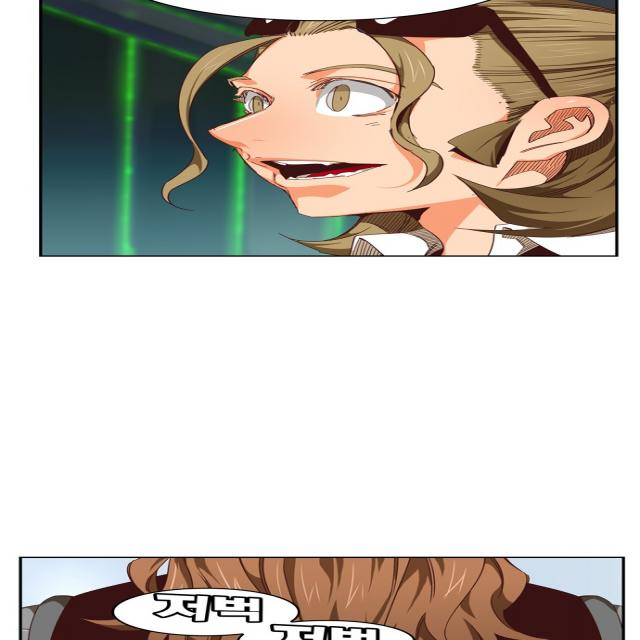Bubble: (117, 585, 297, 634), (235, 620, 411, 640)
